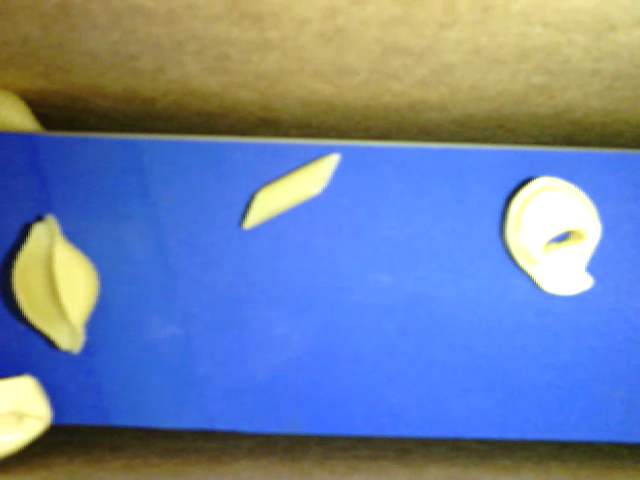penne: (240, 153, 341, 230)
shell: (11, 213, 101, 354)
tortellini: (502, 175, 599, 296)
